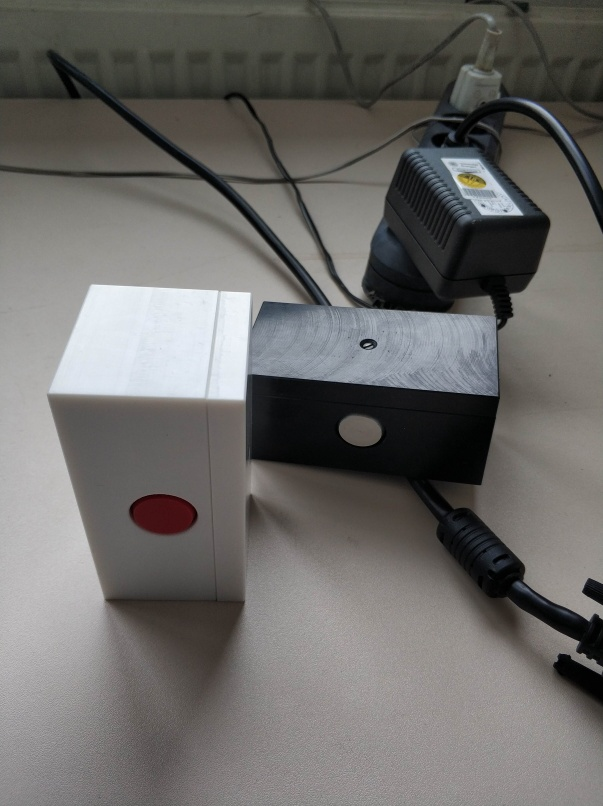black+black+silver: (243, 296, 503, 490)
white+white+red: (44, 283, 254, 610)
